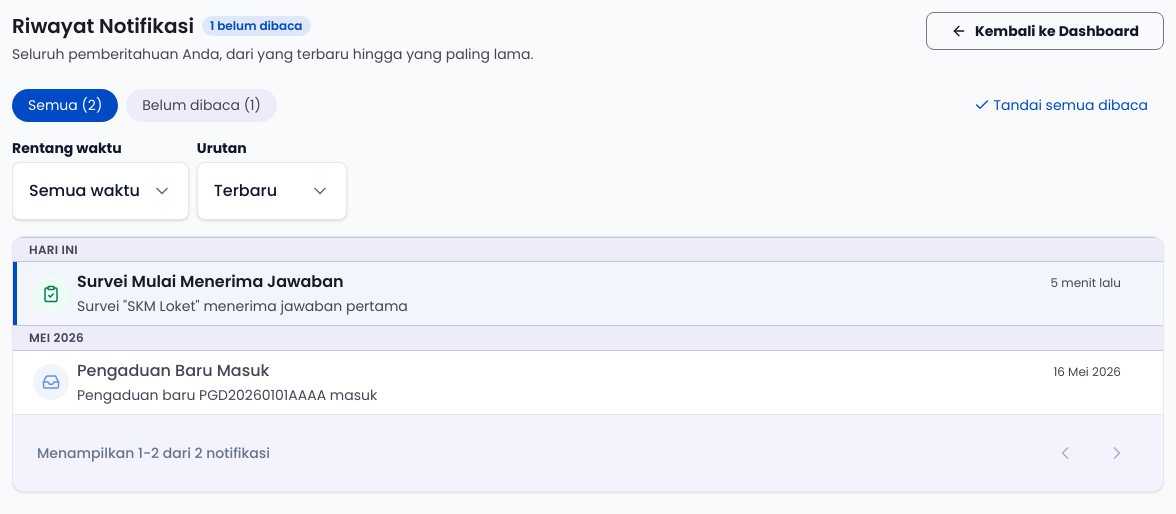
Test: NotificationHistoryScreen › saringan waktu & urutan › reset memulihkan rentang dan urutan ke bawaan sekaligus
Check: the text "Survei Mulai Menerima Jawaban" is shown, box [77,270,344,294]
Click the button "Semua waktu".
click(100, 191)  # box [12,162,189,220]
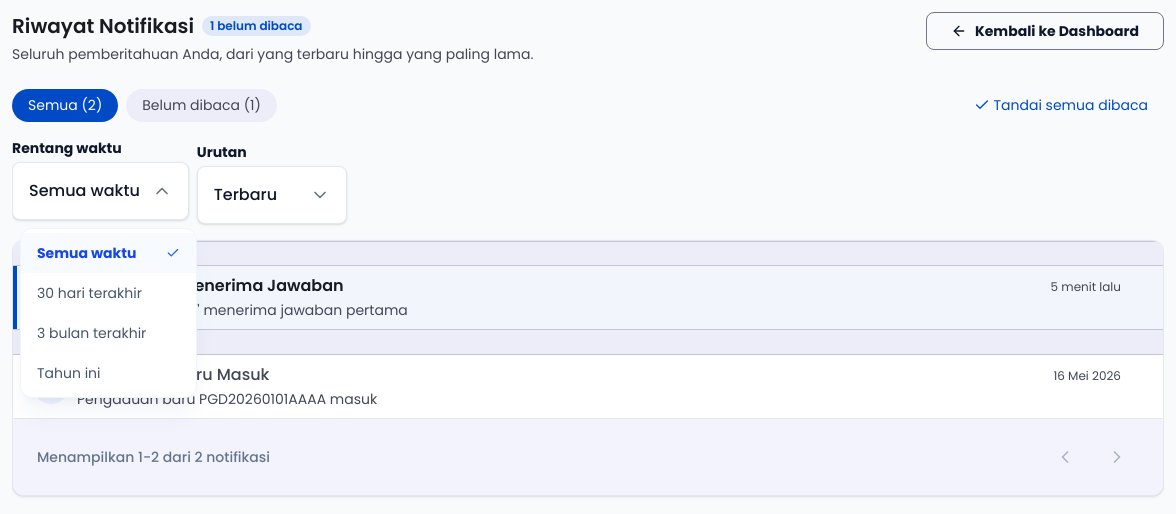
Click the button "Tahun ini".
click(108, 373)  # box [21,353,196,393]
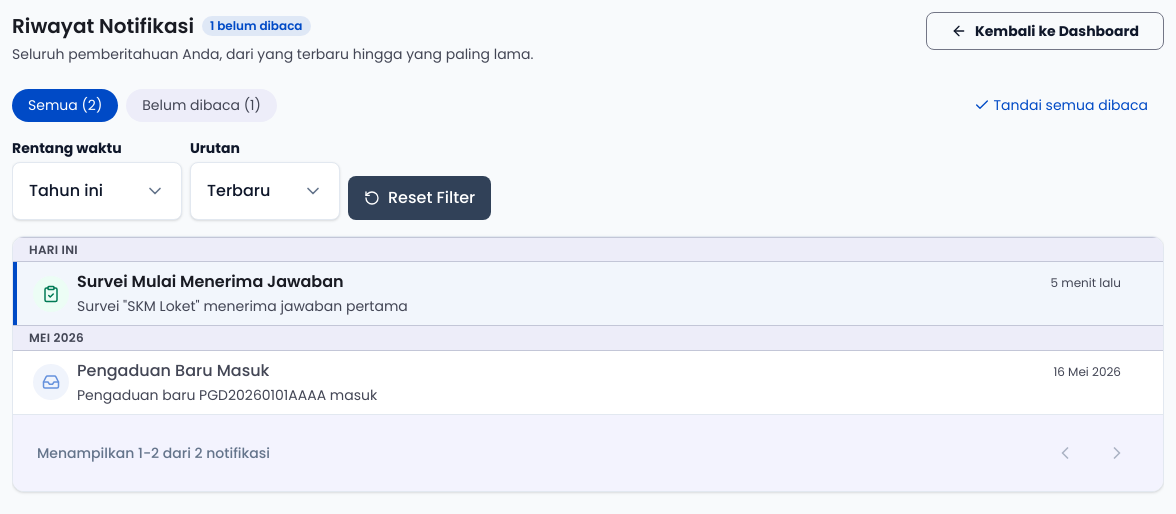
Click the button "Terbaru".
click(265, 191)  # box [190,162,340,220]
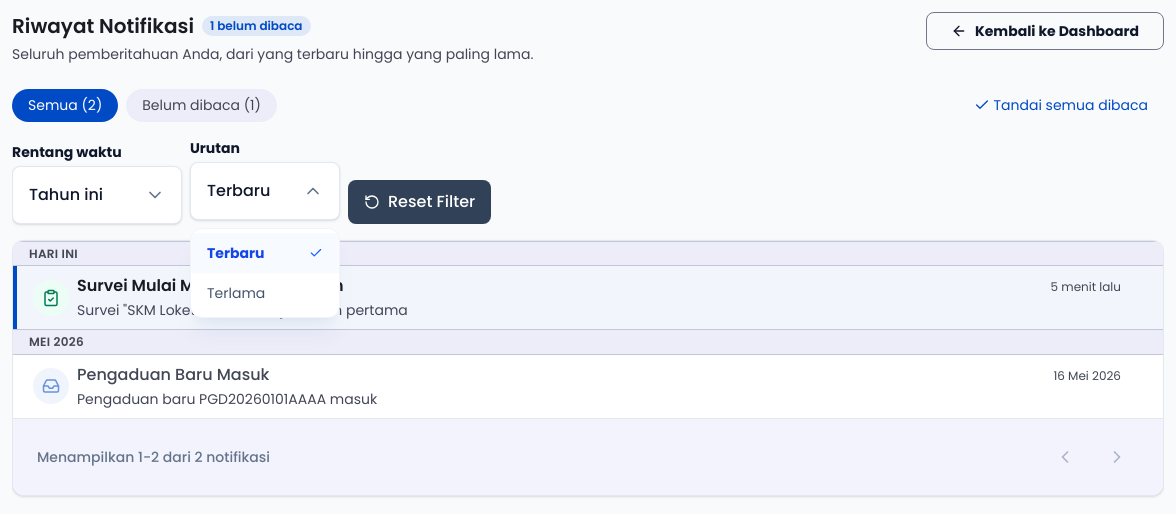
Click the button "Terlama".
click(265, 293)  # box [191,273,339,313]
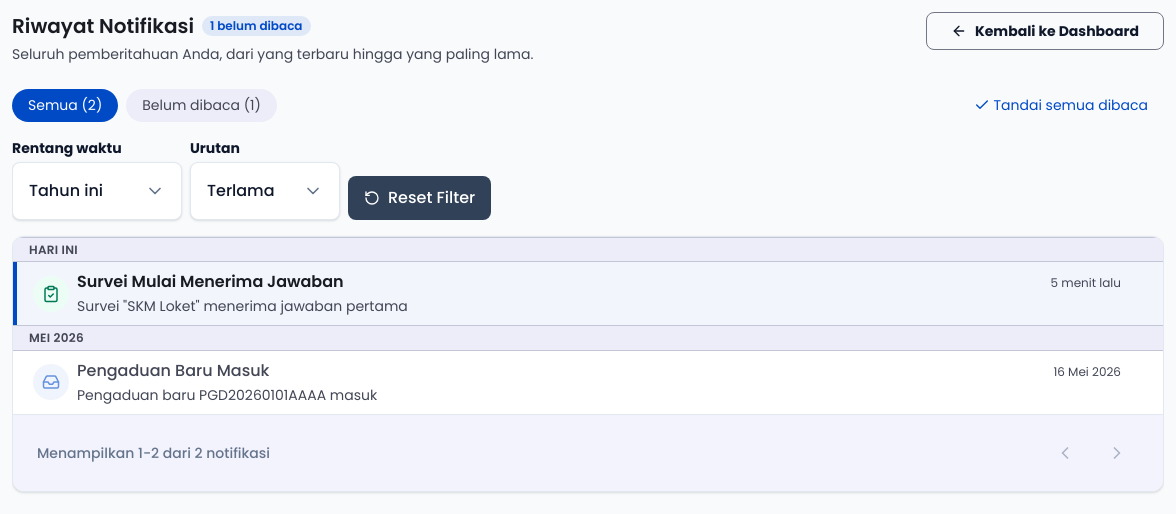
Click the button "Reset Filter".
click(420, 198)  # box [348,176,491,220]
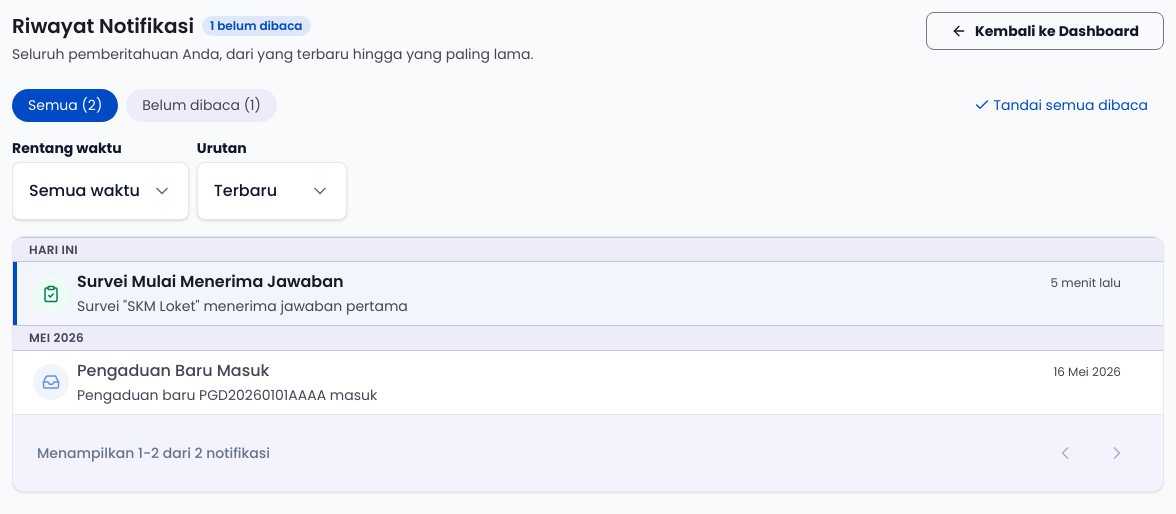
Check: the text "Semua waktu" is shown, box [29,179,140,203]
Check: the text "Terbaru" is shown, box [214,179,277,203]
